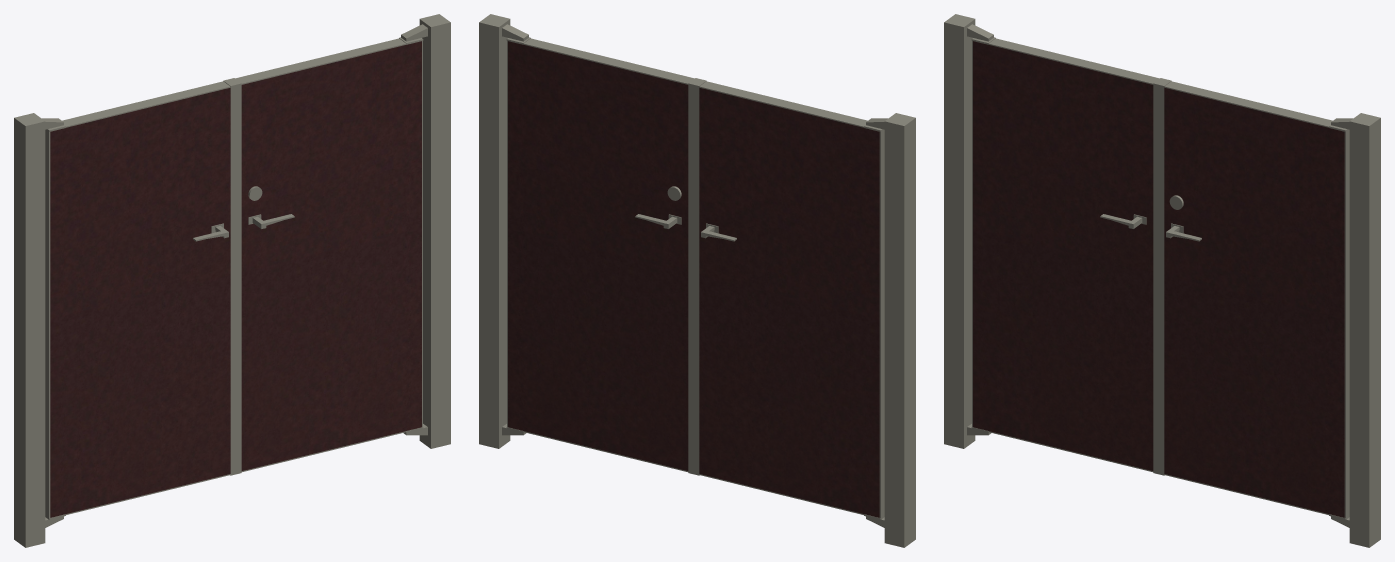
Rendered from abmonpi-flat_h1400-w700-700_rustycopper.fbx.
3 views of the same model, side by side, from view 1: azimuth 30°, elevation 25°; view 2: azimuth 150°, elevation 25°; view 3: azimuth 330°, elevation 25° (orthographic).
Parts seen in each view (by area): view 1: abmonpi-flat_h1400-w700-700_brackebony.004; view 2: abmonpi-flat_h1400-w700-700_brackebony.004; view 3: abmonpi-flat_h1400-w700-700_brackebony.004.
Boxes of the visible parts, x1,y1,x2,y2 form: abmonpi-flat_h1400-w700-700_brackebony.004: (14, 14, 450, 547); abmonpi-flat_h1400-w700-700_brackebony.004: (479, 14, 915, 547); abmonpi-flat_h1400-w700-700_brackebony.004: (944, 14, 1380, 547).
Bounding box in the file's own units: 160 × 152 × 16.7.
2 materials, 2 textured.
